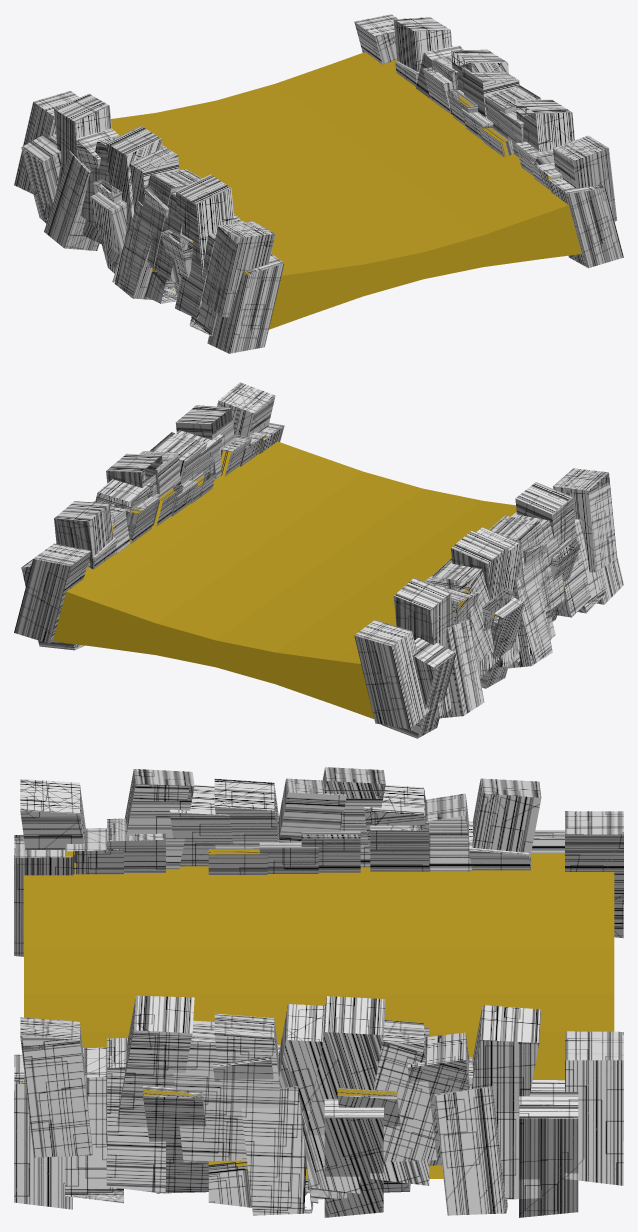
The model's file is plataforma estreita.fbx.
The picture shows the model from 3 angles, top to bottom: view 1: azimuth 30°, elevation 25°; view 2: azimuth 150°, elevation 25°; view 3: azimuth 270°, elevation 25°; orthographic projection. The views are drawn at different scales.
Parts seen in each view (by area): view 1: Cube.001, Cube; view 2: Cube.001, Cube; view 3: Cube, Cube.001.
Part boxes in pixels (x1,y1,x2,y2): Cube.001: (111, 52, 581, 329); Cube: (14, 14, 623, 353); Cube.001: (53, 438, 564, 718); Cube: (14, 382, 623, 738); Cube: (14, 767, 623, 1217); Cube.001: (24, 849, 614, 1178).
Size of the model in its own units: 117 by 37.14 by 103.
